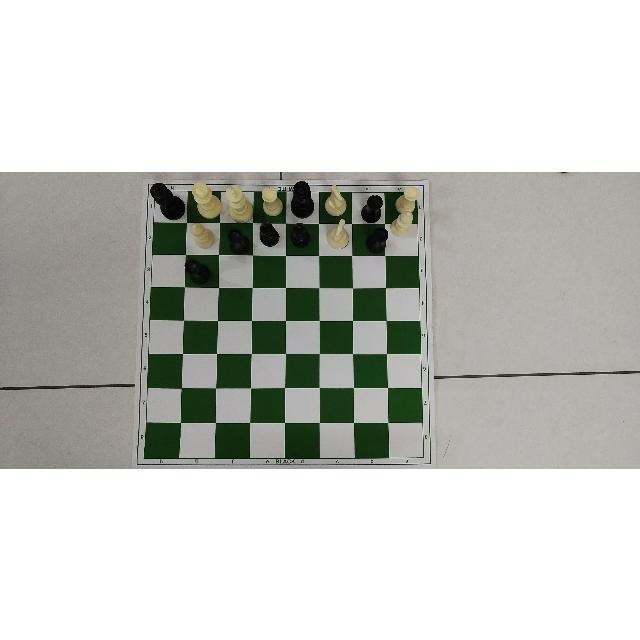black-bishop: (260, 220, 280, 245), (290, 221, 310, 246)
black-king: (150, 181, 186, 219)
black-queen: (290, 181, 316, 217)
black-rook: (184, 257, 212, 283), (226, 228, 252, 254), (361, 194, 383, 222), (366, 227, 388, 253)
white-bishop: (390, 209, 413, 236), (191, 222, 215, 247)
white-king: (224, 184, 253, 222)
white-knight: (323, 183, 346, 214), (326, 218, 349, 248)
white-queen: (191, 181, 222, 217)
white-rook: (396, 184, 420, 211), (262, 186, 282, 215)
